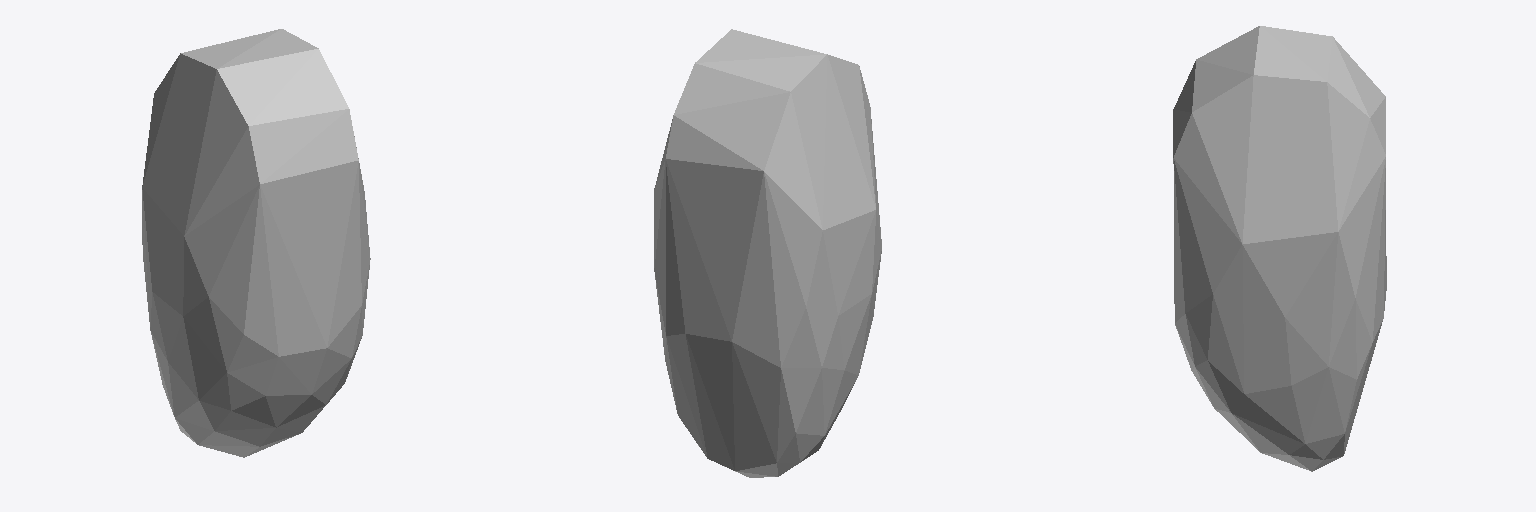
Rendered from pinky_dist_col.obj.
The picture shows the model from 3 angles: view 1: azimuth 30°, elevation 25°; view 2: azimuth 150°, elevation 25°; view 3: azimuth 270°, elevation 25°; orthographic projection.
Size of the model in its own units: 0.0155 by 0.034 by 0.0159.